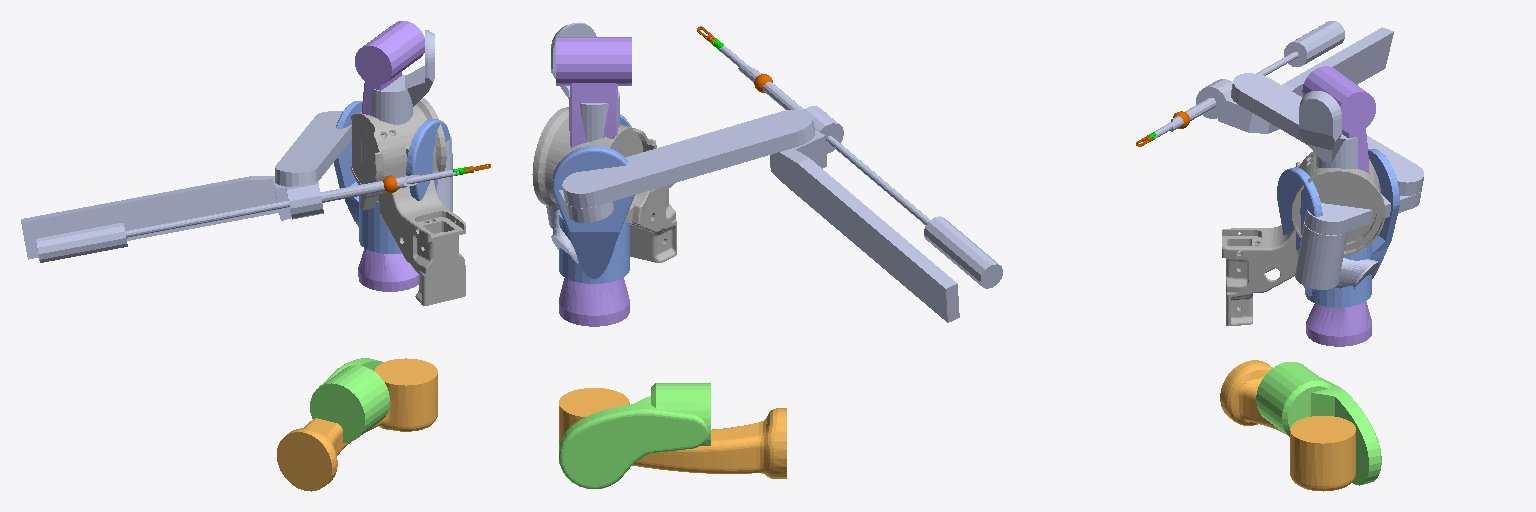
URDF robot description (V1_Arm_URDF):
<robot
  name="V1_Arm_URDF">

  <link
    name="V1_arm1_base_link">
    <inertial>
      <origin
        xyz="-0.00055124  -0.02427719 -0.02322142"
        rpy="0 0 0" />
      <mass
        value="1.9" />
      <inertia
        ixx="0.00758967"
        ixy="0.00001624"
        ixz="0.00002591"
        iyy="0.00439493"
        iyz="0.00281287"
        izz="0.00472741" />
    </inertial>
    <visual>
      <origin
        xyz="0 0 0"
        rpy="0 0 0" />
      <geometry>
        <mesh
          filename="package://V1_Arm_URDF/meshes/V1_arm1_base_link.STL" />
      </geometry>
      <material
        name="">
        <color
          rgba="0.75294 0.75294 0.75294 1" />
      </material>
    </visual>
    <collision>
      <origin
        xyz="0 0 0"
        rpy="0 0 0" />
      <geometry>
        <mesh
          filename="package://V1_Arm_URDF/meshes/V1_arm1_base_link.STL" />
      </geometry>
    </collision>
  </link>

<link
    name="V1_arm1_shoulder_pitch_link">
    <inertial>
      <origin
        xyz="0.06218887 0 0.00000160"
        rpy="0 0 0" />
      <mass
        value="1.195" />
      <inertia
        ixx="0.00183098"
        ixy="0"
        ixz="0.00000007"
        iyy="0.00350504"
        iyz="0"
        izz="0.00256228" />
    </inertial>
    <visual>
      <origin
        xyz="0 0 0"
        rpy="0 0 0" />
      <geometry>
        <mesh
          filename="package://V1_Arm_URDF/meshes/V1_arm1_shoulder_pitch_link.STL" />
      </geometry>
      <material
        name="">
        <color
          rgba="0.6 0.72549 1 1" />
      </material>
    </visual>
    <collision>
      <origin
        xyz="0 0 0"
        rpy="0 0 0" />
      <geometry>
        <mesh
          filename="package://V1_Arm_URDF/meshes/V1_arm1_shoulder_pitch_link.STL" />
      </geometry>
    </collision>
  </link>

<joint
    name="V1_arm1_shoulder_pitch_joint"
    type="revolute">
    <origin
      xyz="0 0 0"
      rpy="0 1.5708 2.0944" />
    <parent
      link="V1_arm1_base_link" />
    <child
      link="V1_arm1_shoulder_pitch_link" />
    <axis
      xyz="0 0 1" />
    <limit effort="30" lower="-2.3607" upper=".7809" velocity="1.0"/>
  </joint>

<link
    name="V1_arm1_shoulder_roll_link">
    <inertial>
      <origin
        xyz="0.00448948 -0.00254241 -0.07314239"
        rpy="0 0 0" />
      <mass
        value="1.183" />
      <inertia
        ixx="0.00753429"
        ixy="-0.00007070"
        ixz="0.00096970"
        iyy="0.00779969"
        iyz="-0.00032930"
        izz="0.00088178" />
    </inertial>
    <visual>
      <origin
        xyz="0 0 0"
        rpy="0 0 0" />
      <geometry>
        <mesh
          filename="package://V1_Arm_URDF/meshes/V1_arm1_shoulder_roll_link.STL" />
      </geometry>
      <material
        name="">
        <color
          rgba="1 0.75686 0.38431 1" />
      </material>
    </visual>
    <collision>
      <origin
        xyz="0 0 0"
        rpy="0 0 0" />
      <geometry>
        <mesh
          filename="package://V1_Arm_URDF/meshes/V1_arm1_shoulder_roll_link.STL" />
      </geometry>
    </collision>
  </link>

<joint
    name="V1_arm1_shoulder_roll_joint"
    type="revolute">
    <origin
      xyz="0.32385 0 0"
      rpy="1.5708 1.5708 0" />
    <parent
      link="V1_arm1_shoulder_pitch_link" />
    <child
      link="V1_arm1_shoulder_roll_link" />
    <axis
      xyz="0 0 1" />
    <limit effort="30" lower="-1.5708" upper="1.5708" velocity="1.0"/>
  </joint>

<link
    name="V1_arm1_elbow_link">
    <inertial>
      <origin
        xyz="0.02404932 0.06734925 -0.02975223"
        rpy="0 0 0" />
      <mass
        value="1.281" />
      <inertia
        ixx="0.00269566"
        ixy="0.00050162"
        ixz="0.00013679"
        iyy="0.00112075"
        iyz="0.00055297"
        izz="0.00279944" />
    </inertial>
    <visual>
      <origin
        xyz="0 0 0"
        rpy="0 0 0" />
      <geometry>
        <mesh
          filename="package://V1_Arm_URDF/meshes/V1_arm1_elbow_link.STL" />
      </geometry>
      <material
        name="">
        <color
          rgba="0.61569 1 0.55294 1" />
      </material>
    </visual>
    <collision>
      <origin
        xyz="0 0 0"
        rpy="0 0 0" />
      <geometry>
        <mesh
          filename="package://V1_Arm_URDF/meshes/V1_arm1_elbow_link.STL" />
      </geometry>
    </collision>
  </link>

<joint
    name="V1_arm1_elbow_joint"
    type="revolute">
    <origin
      xyz="0.02 0 0"
      rpy="-1.5708 0 -1.5708" />
    <parent
      link="V1_arm1_shoulder_roll_link" />
    <child
      link="V1_arm1_elbow_link" />
    <axis
      xyz="0 0 1" />
    <limit effort="30" lower="-1.5708" upper="1.5708" velocity="1.0"/>
  </joint>

<link
    name="V1_arm1_forearm_link">
    <inertial>
      <origin
        xyz="0.00000202 0.00575916 0.27761774"
        rpy="0 0 0" />
      <mass
        value="0.942" />
      <inertia
        ixx="0.01148491"
        ixy="0"
        ixz="-0.00000012"
        iyy="0.01162392"
        iyz="-0.00000700"
        izz="0.00047604" />
    </inertial>
    <visual>
      <origin
        xyz="0 0 0"
        rpy="0 0 0" />
      <geometry>
        <mesh
          filename="package://V1_Arm_URDF/meshes/V1_arm1_forearm_link.STL" />
      </geometry>
      <material
        name="">
        <color
          rgba="0.76471 0.64706 1 1" />
      </material>
    </visual>
    <collision>
      <origin
        xyz="0 0 0"
        rpy="0 0 0" />
      <geometry>
        <mesh
          filename="package://V1_Arm_URDF/meshes/V1_arm1_forearm_link.STL" />
      </geometry>
    </collision>
  </link>

<joint
    name="V1_arm1_forearm_joint"
    type="revolute">
    <origin
      xyz=".03000 0 -0.02110"
      rpy="-1.5708 0 -1.5708" />
    <parent
      link="V1_arm1_elbow_link" />
    <child
      link="V1_arm1_forearm_link" />
    <axis
      xyz="0 0 1" />
    <limit effort="30" lower="-1.5708" upper="1.5708" velocity="1.0"/>
  </joint>

<link
    name="V1_arm1_spherical_base_link">
    <inertial>
      <origin
        xyz="0.07922596 0 -0.00707007"
        rpy="0 0 0" />
      <mass
        value="0.600" />
      <inertia
        ixx="0.00032575"
        ixy="0"
        ixz="0.00025917"
        iyy="0.00123265"
        iyz="0"
        izz="0.00110614" />
    </inertial>
    <visual>
      <origin
        xyz="0 0 0"
        rpy="0 0 0" />
      <geometry>
        <mesh
          filename="package://V1_Arm_URDF/meshes/V1_arm1_spherical_base_link.STL" />
      </geometry>
      <material
        name="">
        <color
          rgba="0.79216 0.81961 0.93333 1" />
      </material>
    </visual>
    <collision>
      <origin
        xyz="0 0 0"
        rpy="0 0 0" />
      <geometry>
        <mesh
          filename="package://V1_Arm_URDF/meshes/V1_arm1_spherical_base_link.STL" />
      </geometry>
    </collision>
  </link>

<joint
    name="V1_arm1_spherical_base_joint"
    type="revolute">
    <origin
      xyz="0 0 0.415"
      rpy="-2.0944 1.5708 0" />
    <parent
      link="V1_arm1_forearm_link" />
    <child
      link="V1_arm1_spherical_base_link" />
    <axis
      xyz="0 0 1" />
    <limit effort="30" lower="-1.4820" upper="+2.0087" velocity="1.0"/>
  </joint>

<link
    name="V1_arm1_spherical_roll_link">
    <inertial>
      <origin
        xyz="0.04054375 0.01898139 0.00108566"
        rpy="0 0 0" />
      <mass
        value="0.6" />
      <inertia
        ixx="0.46781819"
        ixy="0.06782344"
        ixz="0.12992694"
        iyy="0.44469162"
        iyz="0.11374943"
        izz="0.45643901" />
    </inertial>
    <visual>
      <origin
        xyz="0 0 0"
        rpy="0 0 0" />
      <geometry>
        <mesh
          filename="package://V1_Arm_URDF/meshes/V1_arm1_spherical_roll_link.STL" />
      </geometry>
      <material
        name="">
        <color
          rgba="0.79216 0.81961 0.93333 1" />
      </material>
    </visual>
    <collision>
      <origin
        xyz="0 0 0"
        rpy="0 0 0" />
      <geometry>
        <mesh
          filename="package://V1_Arm_URDF/meshes/V1_arm1_spherical_roll_link.STL" />
      </geometry>
    </collision>
  </link>

<joint
    name="V1_arm1_spherical_roll_joint"
    type="revolute">
    <origin
      xyz="0.19322 0 0"
      rpy="-2.0944 1.5708 0" />
    <parent
      link="V1_arm1_spherical_base_link" />
    <child
      link="V1_arm1_spherical_roll_link" />
    <axis
      xyz="0 0 1" />
    <limit effort="30" lower="-4.71239" upper="4.71239" velocity="1.0"/>
  </joint>

<link
    name="V1_arm1_pitch_a_link">
    <inertial>
      <origin
        xyz="0.05719705 -0.00004469 0.06919435"
        rpy="0 0 0" />
      <mass
        value="0.243" />
      <inertia
        ixx="0.00005379"
        ixy="0.00000004"
        ixz="0"
        iyy="0.00049133"
        iyz="-0.00000007"
        izz="0.00053231" />
    </inertial>
    <visual>
      <origin
        xyz="0 0 0"
        rpy="0 0 0" />
      <geometry>
        <mesh
          filename="package://V1_Arm_URDF/meshes/V1_arm1_pitch_a_link.STL" />
      </geometry>
      <material
        name="">
        <color
          rgba="0.792156862745098 0.819607843137255 0.933333333333333 1" />
      </material>
    </visual>
    <collision>
      <origin
        xyz="0 0 0"
        rpy="0 0 0" />
      <geometry>
        <mesh
          filename="package://V1_Arm_URDF/meshes/V1_arm1_pitch_a_link.STL" />
      </geometry>
    </collision>
  </link>

<joint
    name="V1_arm1_pitch_a_joint"
    type="revolute">
    <origin
      xyz="0.04753 0 0"
      rpy="1.20376785038861 0.254936892774236 3.04493720059253" />
    <parent
      link="V1_arm1_spherical_roll_link" />
    <child
      link="V1_arm1_pitch_a_link" />
    <axis
      xyz="0 0 1" />
    <limit effort="30" lower="-1.4198" upper="1.0236" velocity="1.0"/>
  </joint>

  <link
    name="V1_arm1_pitch_b_link">
    <inertial>
      <origin
        xyz="0.11423799 -0.00002767 0.0230957192"
        rpy="0 0 0" />
      <mass
        value="0.487" />
      <inertia
        ixx="0.00011057"
        ixy="0.00000046"
        ixz="0.00000147"
        iyy="0.00293978"
        iyz="0"
        izz="0.00302469" />
    </inertial>
    <visual>
      <origin
        xyz="0 0 0"
        rpy="0 0 0" />
      <geometry>
        <mesh
          filename="package://V1_Arm_URDF/meshes/V1_arm1_pitch_b_link.STL" />
      </geometry>
      <material
        name="">
        <color
          rgba="0.792156862745098 0.819607843137255 0.933333333333333 1" />
      </material>
    </visual>
    <collision>
      <origin
        xyz="0 0 0"
        rpy="0 0 0" />
      <geometry>
        <mesh
          filename="package://V1_Arm_URDF/meshes/V1_arm1_pitch_b_link.STL" />
      </geometry>
    </collision>
  </link>

 <joint
    name="V1_arm1_pitch_b_joint"
    type="revolute">
    <origin
      xyz="0.1143 0 0.06419"
      rpy="0 0 1.633628" />
    <parent
      link="V1_arm1_pitch_a_link" />
    <child
      link="V1_arm1_pitch_b_link" />
    <axis
      xyz="0 0 1" />
    <limit effort="30" lower="-1.0236" upper="1.4198" velocity="1.0"/>
  </joint>

  <link
    name="V1_arm1_pitch_c_link">
    <inertial>
      <origin
        xyz="-0.00636062 -0.09760294 -0.01788714"
        rpy="0 0 0" />
      <mass
        value="0.500" />
      <inertia
        ixx="0.00648952"
        ixy="0.00082224"
        ixz="0.00014234"
        iyy="0.00050852"
        iyz="0.00104333"
        izz="0.00650370" />
    </inertial>
    <visual>
      <origin
        xyz="0 0 0"
        rpy="0 0 0" />
      <geometry>
        <mesh
          filename="package://V1_Arm_URDF/meshes/V1_arm1_pitch_c_link.STL" />
      </geometry>
      <material
        name="">
        <color
          rgba="0.792156862745098 0.819607843137255 0.933333333333333 1" />
      </material>
    </visual>
    <collision>
      <origin
        xyz="0 0 0"
        rpy="0 0 0" />
      <geometry>
        <mesh
          filename="package://V1_Arm_URDF/meshes/V1_arm1_pitch_c_link.STL" />
      </geometry>
    </collision>
  </link>

  <joint
    name="V1_arm1_pitch_c_joint"
    type="revolute">
    <origin
      xyz="0.2286 0 0"
      rpy="0 0 0.275762" />
    <parent
      link="V1_arm1_pitch_b_link" />
    <child
      link="V1_arm1_pitch_c_link" />
    <axis
      xyz="0 0 1" />
   <limit effort="30" lower="-1.4198" upper="1.0236" velocity="1.0"/>
  </joint>

  <link
    name="V1_arm1_tool_translate_link">
    <inertial>
      <origin
        xyz="-0.01953409 0.00743989 0.26133068"
        rpy="0 0 0" />
      <mass
        value="0.800" />
      <inertia
        ixx="0.00164842"
        ixy="-0.00006503"
        ixz="0.00010273"
        iyy="0.00179004"
        iyz="-0.00002099"
        izz="0.00059810" />
    </inertial>
    <visual>
      <origin
        xyz="0 0 0"
        rpy="0 0 0" />
      <geometry>
        <mesh
          filename="package://V1_Arm_URDF/meshes/V1_arm1_tool_translate_link.STL" />
      </geometry>
      <material
        name="">
        <color
          rgba="1 0.50196 0.50196 1" />
      </material>
    </visual>
    <collision>
      <origin
        xyz="0 0 0"
        rpy="0 0 0" />
      <geometry>
        <mesh
          filename="package://V1_Arm_URDF/meshes/V1_arm1_tool_translate_link.STL" />
      </geometry>
    </collision>
  </link>

 <joint
    name="V1_arm1_tool_translate_joint"
    type="prismatic">
    <origin
      xyz="0.0379 0 0"
      rpy="1.7453 0 0" />
    <parent
      link="V1_arm1_pitch_c_link" />
    <child
      link="V1_arm1_tool_translate_link" />
    <axis
      xyz="0 0 1" />
    <limit effort="30" lower="-.167" upper=".092" velocity="1.0"/>
  </joint>

 <link
    name="V1_arm1_tool_rotate_link">
    <inertial>
      <origin
        xyz="0 0 0.38715"
        rpy="0 0 0" />
      <mass
        value="0.05" />
      <inertia
        ixx="0.00069673"
        ixy="0"
        ixz="0"
        iyy="0.00069673"
        iyz="0"
        izz="0.00000444" />
    </inertial>
    <visual>
      <origin
        xyz="0 0 0"
        rpy="0 0 0" />
      <geometry>
        <mesh
          filename="package://V1_Arm_URDF/meshes/V1_arm1_tool_rotate_link.STL" />
      </geometry>
      <material
        name="">
        <color
          rgba="0.79216 0.81961 0.93333 1" />
      </material>
    </visual>
    <collision>
      <origin
        xyz="0 0 0"
        rpy="0 0 0" />
      <geometry>
        <mesh
          filename="package://V1_Arm_URDF/meshes/V1_arm1_tool_rotate_link.STL" />
      </geometry>
    </collision>
  </link>

<joint
    name="V1_arm1_tool_rotate_joint"
    type="revolute">
    <origin
      xyz="0 0 -0.1891"
      rpy="0 0 0" />
    <parent
      link="V1_arm1_tool_translate_link" />
    <child
      link="V1_arm1_tool_rotate_link" />
    <axis
      xyz="0 0 1" />
    <limit effort="30" lower="-7.85398" upper="7.85398" velocity="1.0"/>
  </joint>

 <link
    name="V1_arm1_wrist_link">
    <inertial>
      <origin
        xyz="0.00506523 0 0"
        rpy="0 0 0" />
      <mass
        value="0.005" />
      <inertia
        ixx="0.00000004"
        ixy="0"
        ixz="0"
        iyy="0.00000015"
        iyz="0"
        izz="0.00000014" />
    </inertial>
    <visual>
      <origin
        xyz="0 0 0"
        rpy="0 0 0" />
      <geometry>
        <mesh
          filename="package://V1_Arm_URDF/meshes/V1_arm1_wrist_link.STL" />
      </geometry>
      <material
        name="">
        <color
          rgba="0 1 0 1" />
      </material>
    </visual>
    <collision>
      <origin
        xyz="0 0 0"
        rpy="0 0 0" />
      <geometry>
        <mesh
          filename="package://V1_Arm_URDF/meshes/V1_arm1_wrist_link.STL" />
      </geometry>
    </collision>
  </link>

<joint
    name="V1_arm1_wrist_joint"
    type="revolute">
    <origin
      xyz="0 0 0"
      rpy="1.5708 1.5708 0" />
    <parent
      link="V1_arm1_tool_rotate_link" />
    <child
      link="V1_arm1_wrist_link" />
    <axis
      xyz="0 0 1" />
    <limit effort="30" lower="-1.5708" upper="1.5708" velocity="1.0"/>
  </joint>

<link
    name="V1_arm1_distal_wrist_link">
</link>

<joint
    name="V1_arm1_distal_wrist_joint"
    type="revolute">
    <origin
      xyz="0.012333 0 0"
      rpy="-1.5708 0 0" />
    <parent
      link="V1_arm1_wrist_link" />
    <child
      link="V1_arm1_distal_wrist_link" />
    <axis
      xyz="0 0 1" />
    <limit effort="30" lower="-1.5708" upper="1.5708" velocity="1.0"/>
</joint>

<link
    name="V1_arm1_jaw_a_link">
    <inertial>
      <origin
        xyz="0.0073012 0.00043319 0.0015031"
        rpy="0 0 0" />
      <mass
        value="0.005" />
      <inertia
        ixx="0.00000003"
        ixy="0.00000002"
        ixz="-0.00000004"
        iyy="0.00000037"
        iyz="0"
        izz="0.00000036" />
    </inertial>
    <visual>
      <origin
        xyz="0 0 0"
        rpy="0 0 0" />
      <geometry>
        <mesh
          filename="package://V1_Arm_URDF/meshes/V1_arm1_jaw_a_link.STL" />
      </geometry>
      <material
        name="">
        <color
          rgba="0.9098 0.44314 0.031373 1" />
      </material>
    </visual>
    <collision>
      <origin
        xyz="0 0 0"
        rpy="0 0 0" />
      <geometry>
        <mesh
          filename="package://V1_Arm_URDF/meshes/V1_arm1_jaw_a_link.STL" />
      </geometry>
    </collision>
</link>

<joint
    name="V1_arm1_jaw_a_joint"
    type="revolute">
    <origin
      xyz="0 0 0"
      rpy="0 0 0" />
    <parent
      link="V1_arm1_distal_wrist_link" />
    <child
      link="V1_arm1_jaw_a_link" />
    <axis
      xyz="0 0 1" />
    <limit effort="30" lower="-1.5708" upper="1.5708" velocity="1.0"/>
  </joint>

<link
    name="V1_arm1_jaw_b_link">  
    <inertial>
      <origin
        xyz="0.0073012 0.00043319 0.0015031"
        rpy="0 0 0" />
      <mass
        value="0.005" />
      <inertia
        ixx="0.00000003"
        ixy="0.00000002"
        ixz="-0.00000004"
        iyy="0.00000037"
        iyz="0"
        izz="0.00000036" />
    </inertial>
    <visual>
      <origin
        xyz="0 0 0"
        rpy="0 0 0" />
      <geometry>
        <mesh
          filename="package://V1_Arm_URDF/meshes/V1_arm1_jaw_b_link.STL" />
      </geometry>
      <material
        name="">
        <color
          rgba="0.9098 0.44314 0.031373 1" />
      </material>
    </visual>
    <collision>
      <origin
        xyz="0 0 0"
        rpy="0 0 0" />
      <geometry>
        <mesh
          filename="package://V1_Arm_URDF/meshes/V1_arm1_jaw_b_link.STL" />
      </geometry>
    </collision>
  </link>

<joint
    name="V1_arm1_jaw_b_joint"
    type="revolute">
    <origin
      xyz="0 0 0"
      rpy="0 0 0" />
    <parent
      link="V1_arm1_distal_wrist_link" />
    <child
      link="V1_arm1_jaw_b_link" />
    <axis
      xyz="0 0 1" />
    <limit effort="30" lower="-1.5708" upper="1.5708" velocity="1.0"/>
  </joint>

/* ATI force-torque sensor: 

<link
    name="V1_arm1_ATI_sensor_link">  
    <inertial>
      <origin
        xyz="0.00082860 0 -0.01099715"
        rpy="0 0 0" />
      <mass
        value="0.063" />
      <inertia
        ixx="0.00000474"
        ixy="0.0000000"
        ixz="-0.00000032"
        iyy="0.00000597"
        iyz="-0.00000002"
        izz="0.00000595" />
    </inertial>
    <visual>
      <origin
        xyz="0 0 0"
        rpy="0 0 0" />
      <geometry>
        <mesh
          filename="package://V1_Arm_URDF/meshes/V1_arm1_ATI_sensor_link.STL" />
      </geometry>
      <material
        name="">
        <color
          rgba="0.9098 0.44314 0.031373 1" />
      </material>
    </visual>
    <collision>
      <origin
        xyz="0 0 0"
        rpy="0 0 0" />
      <geometry>
        <mesh
          filename="package://V1_Arm_URDF/meshes/V1_arm1_ATI_sensor_link.STL" />
      </geometry>
    </collision>
  </link>

<joint
    name="V1_arm1_ATI_sensor_joint"
    type="fixed">
    <origin
      xyz="0.012333 0 0"
      rpy="-3.037  0  1.7038" />
    <parent
      link="V1_arm1_spherical_roll_link" />
    <child
      link="V1_arm1_ATI_sensor_link" />
  </joint>

/* Remote Center of Motion (RCM) link

<link
    name="V1_arm1_RCM_link">  
    <inertial>
      <origin
        xyz="0 0 0"
        rpy="0 0 0" />
      <mass
        value="0.001" />
      <inertia
        ixx="0.000004"
        ixy="0.0000000"
        ixz="0.0000000"
        iyy="0.00000004"
        iyz="0.00000000"
        izz="0.00000004" />
    </inertial>
    <visual>
      <origin
        xyz="0 0 0"
        rpy="0 0 0" />
      <geometry>
        <mesh
          filename="package://V1_Arm_URDF/meshes/V1_arm1_RCM_link.STL" />
      </geometry>
      <material
        name="">
        <color
          rgba="0.9098 0.44314 0.031373 1" />
      </material>
    </visual>
    <collision>
      <origin
        xyz="0 0 0"
        rpy="0 0 0" />
      <geometry>
        <mesh
          filename="package://V1_Arm_URDF/meshes/V1_arm1_RCM_link.STL" />
      </geometry>
    </collision>
  </link>

<joint
    name="V1_arm1_RCM_joint"
    type="fixed">
    <origin
      xyz="0.037902 0.10784 0.019015"
      rpy="-1.3844 -0.3566 -0.065734" />
    <parent
      link="V1_arm1_pitch_c_link" />
    <child
      link="V1_arm1_RCM_link" />
  </joint>

</robot>

--- Render facts (derived) ---
Views: 3 orthographic renders of the robot side by side, from view 1: azimuth 30°, elevation 25°; view 2: azimuth 150°, elevation 25°; view 3: azimuth 270°, elevation 25°.
Model V1_Arm_URDF with 18 links and 17 joints (14 revolute, 1 prismatic, 2 fixed), rooted at V1_arm1_base_link, posed every joint at zero.
Visible links, largest first — view 1: V1_arm1_base_link, V1_arm1_pitch_c_link, V1_arm1_shoulder_roll_link, V1_arm1_forearm_link, V1_arm1_elbow_link, V1_arm1_shoulder_pitch_link, V1_arm1_tool_rotate_link, V1_arm1_pitch_b_link, V1_arm1_spherical_base_link, V1_arm1_spherical_roll_link; view 2: V1_arm1_pitch_c_link, V1_arm1_elbow_link, V1_arm1_pitch_b_link, V1_arm1_forearm_link, V1_arm1_shoulder_roll_link, V1_arm1_base_link, V1_arm1_shoulder_pitch_link, V1_arm1_tool_rotate_link, V1_arm1_spherical_base_link, V1_arm1_pitch_a_link, V1_arm1_spherical_roll_link; view 3: V1_arm1_base_link, V1_arm1_shoulder_roll_link, V1_arm1_elbow_link, V1_arm1_forearm_link, V1_arm1_shoulder_pitch_link, V1_arm1_pitch_c_link, V1_arm1_pitch_b_link, V1_arm1_spherical_roll_link, V1_arm1_spherical_base_link, V1_arm1_tool_rotate_link, V1_arm1_pitch_a_link.
Link boxes in pixels (bbox=[...]): V1_arm1_base_link: bbox=[351, 98, 465, 305]; V1_arm1_pitch_c_link: bbox=[21, 175, 419, 259]; V1_arm1_shoulder_roll_link: bbox=[277, 358, 437, 491]; V1_arm1_forearm_link: bbox=[355, 21, 424, 291]; V1_arm1_elbow_link: bbox=[310, 358, 389, 442]; V1_arm1_shoulder_pitch_link: bbox=[334, 101, 450, 253]; V1_arm1_tool_rotate_link: bbox=[36, 170, 458, 262]; V1_arm1_pitch_b_link: bbox=[275, 111, 351, 186]; V1_arm1_spherical_base_link: bbox=[372, 30, 434, 124]; V1_arm1_spherical_roll_link: bbox=[437, 153, 452, 211]; V1_arm1_pitch_c_link: bbox=[738, 66, 959, 322]; V1_arm1_elbow_link: bbox=[559, 383, 710, 488]; V1_arm1_pitch_b_link: bbox=[562, 109, 814, 207]; V1_arm1_forearm_link: bbox=[556, 37, 631, 326]; V1_arm1_shoulder_roll_link: bbox=[559, 388, 786, 478]; V1_arm1_base_link: bbox=[532, 107, 676, 262]; V1_arm1_shoulder_pitch_link: bbox=[552, 114, 634, 283]; V1_arm1_tool_rotate_link: bbox=[718, 46, 1002, 288]; V1_arm1_spherical_base_link: bbox=[551, 22, 619, 141]; V1_arm1_pitch_a_link: bbox=[552, 179, 613, 222]; V1_arm1_spherical_roll_link: bbox=[546, 205, 578, 264]; V1_arm1_base_link: bbox=[1222, 151, 1384, 325]; V1_arm1_shoulder_roll_link: bbox=[1220, 360, 1355, 491]; V1_arm1_elbow_link: bbox=[1256, 362, 1381, 485]; V1_arm1_forearm_link: bbox=[1302, 66, 1375, 346]; V1_arm1_shoulder_pitch_link: bbox=[1277, 149, 1399, 307]; V1_arm1_pitch_c_link: bbox=[1170, 27, 1393, 133]; V1_arm1_pitch_b_link: bbox=[1231, 73, 1423, 195]; V1_arm1_spherical_roll_link: bbox=[1295, 222, 1378, 289]; V1_arm1_spherical_base_link: bbox=[1299, 91, 1357, 168]; V1_arm1_tool_rotate_link: bbox=[1154, 21, 1344, 138]; V1_arm1_pitch_a_link: bbox=[1304, 190, 1421, 235].
Bounding box of the posed robot: 0.5592 × 0.3265 × 0.5094 m (x, y, z).
Meshes: 17 distinct files referenced, 16 mesh visuals loaded (16 binary STL); not drawn: 1 (reference not matched to a file when rendering).
